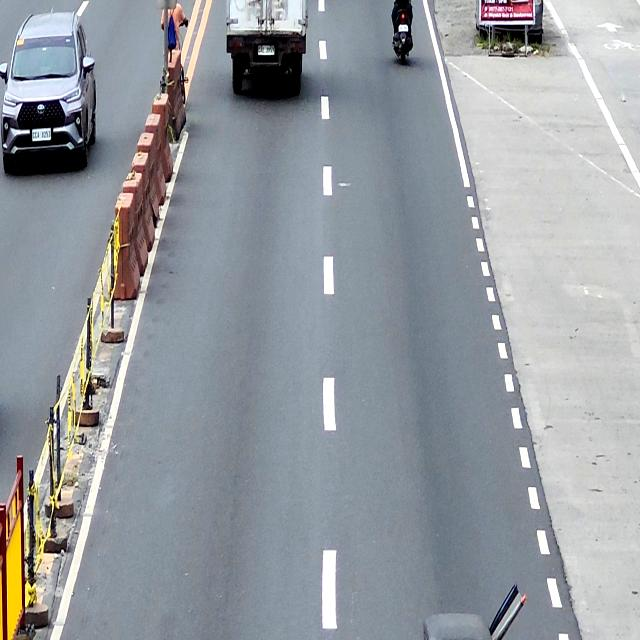Car: (0, 11, 98, 174)
License-Plate: (31, 129, 52, 141), (257, 44, 275, 57), (398, 23, 409, 33)
Motorcycle: (391, 0, 414, 66)
Truck: (226, 0, 308, 97)
